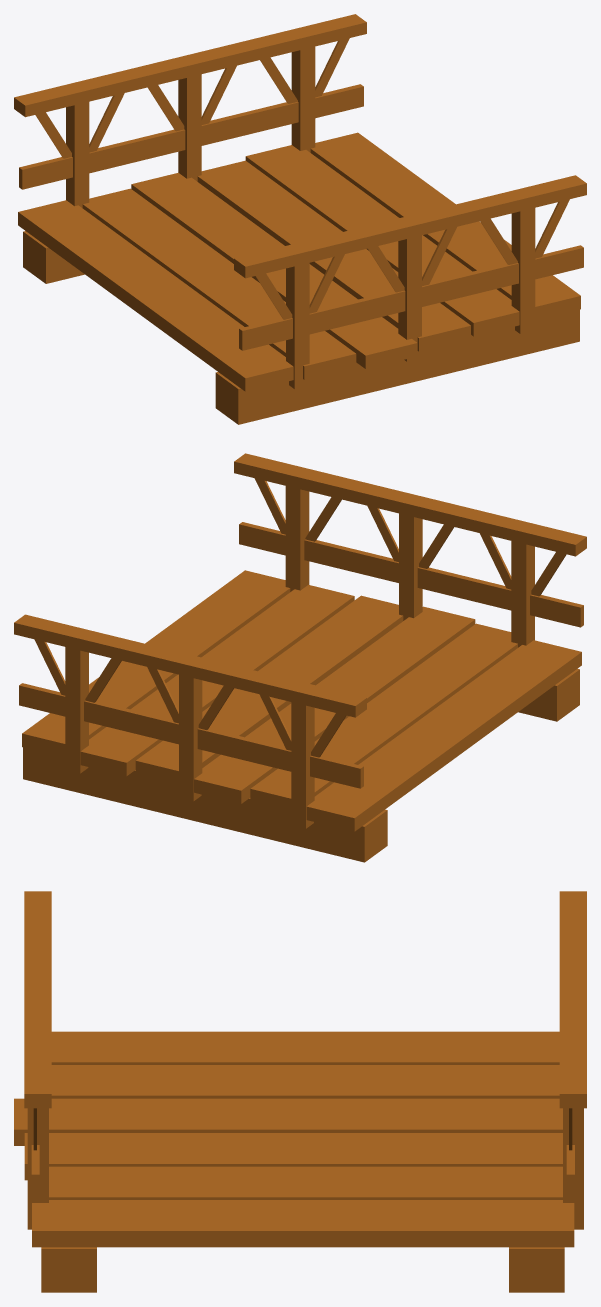
The model's file is Bridge 1.fbx.
3 renders of one model, top to bottom at view 1: azimuth 30°, elevation 25°; view 2: azimuth 150°, elevation 25°; view 3: azimuth 270°, elevation 25°, orthographic. The views are drawn at different scales.
Parts seen in each view (by area): view 1: Cube.1338; view 2: Cube.1338; view 3: Cube.1338.
Boxes of the visible parts, bbox=[...] form: Cube.1338: bbox=[14, 14, 586, 424]; Cube.1338: bbox=[14, 453, 586, 862]; Cube.1338: bbox=[14, 891, 586, 1292].
Size of the model in its own units: 32722 by 14942 by 39108.
